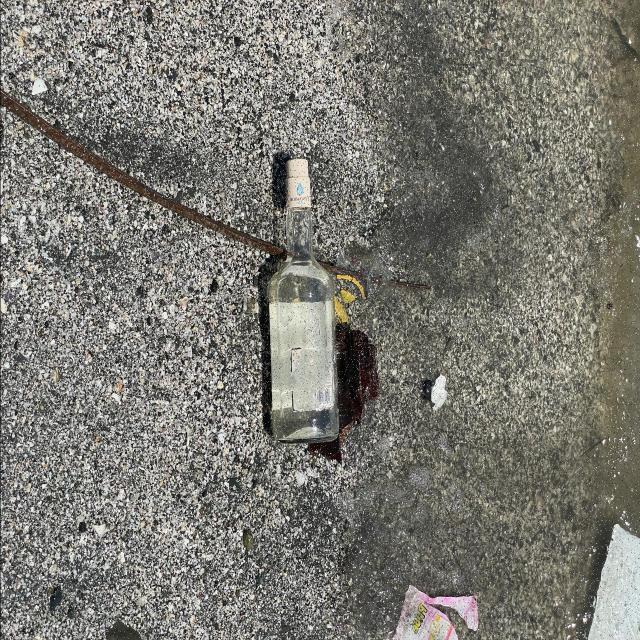glass_waste: (268, 159, 341, 447)
plastic_waste: (588, 523, 640, 640), (392, 584, 479, 640)
